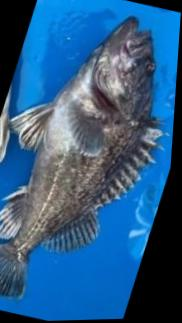fish: (0, 17, 166, 300)
